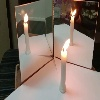fire: (62, 38, 70, 54)
